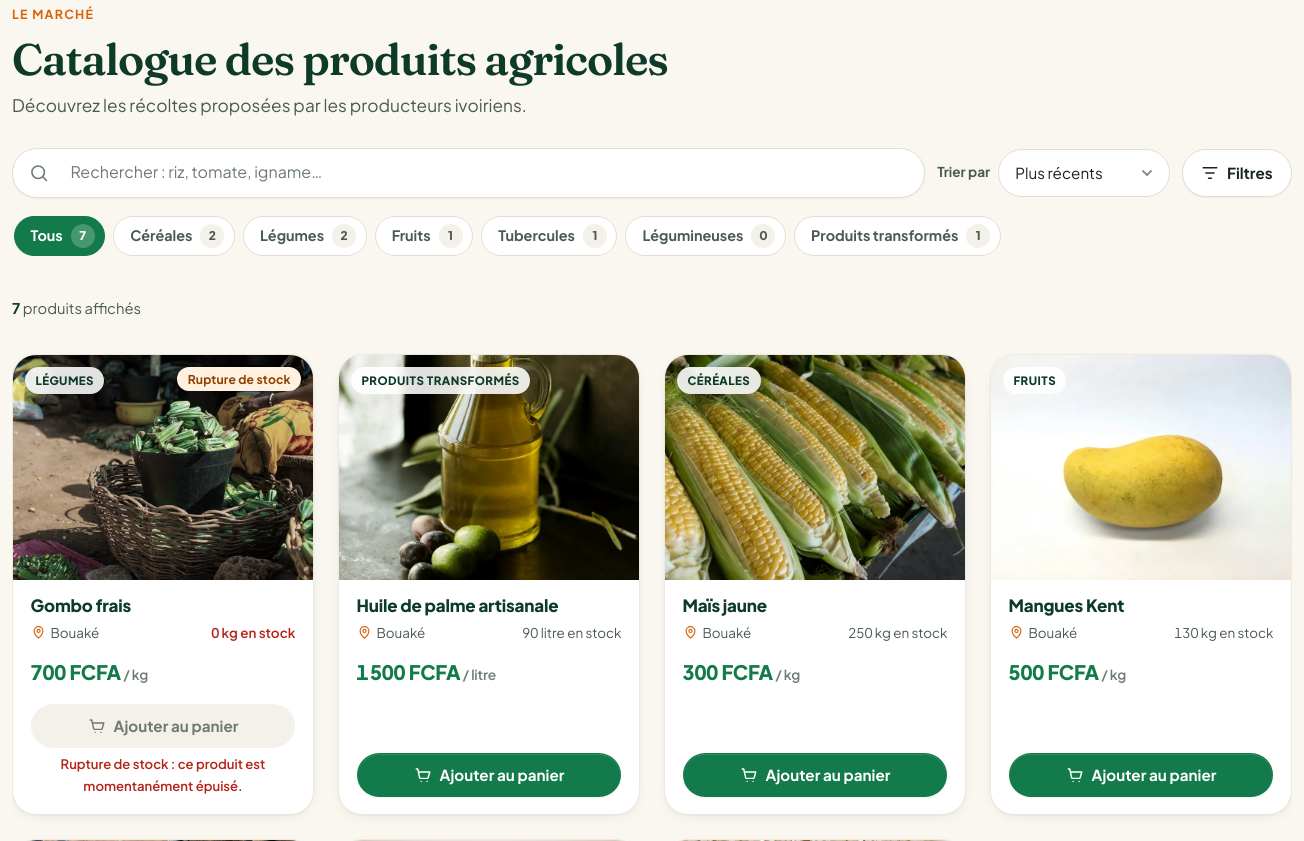
CatalogueComponent (tasks 5.5 / 5.6) › affiche un état vide avec réinitialisation quand aucun produit ne correspond
In the search field with id "catalogue-recherche": (491, 173) [57,149,924,197], type "ananas inexistant"
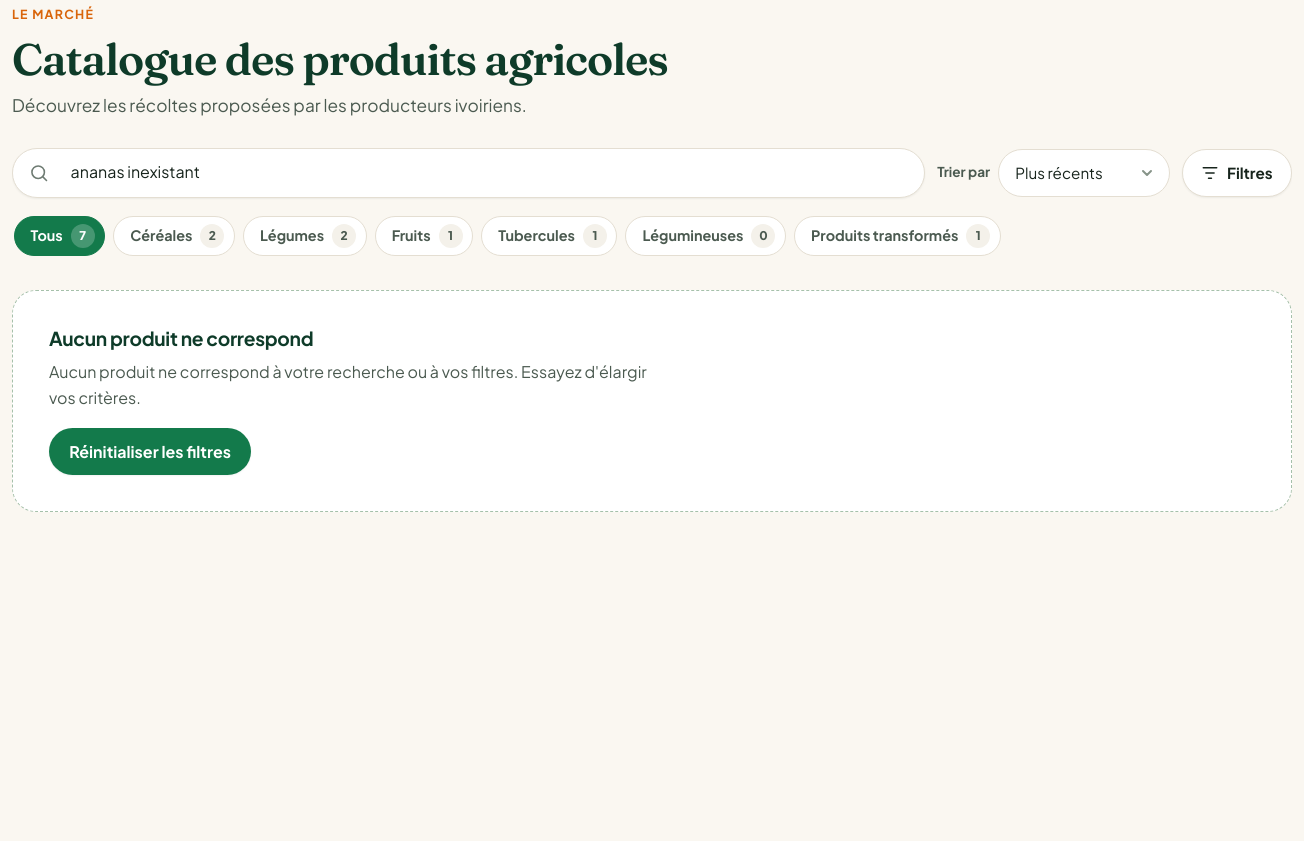
Check: the text "Aucun produit ne correspond" is shown, box [49,328,313,350]
Check: the button "Réinitialiser les filtres" is shown, box [49,428,251,476]
